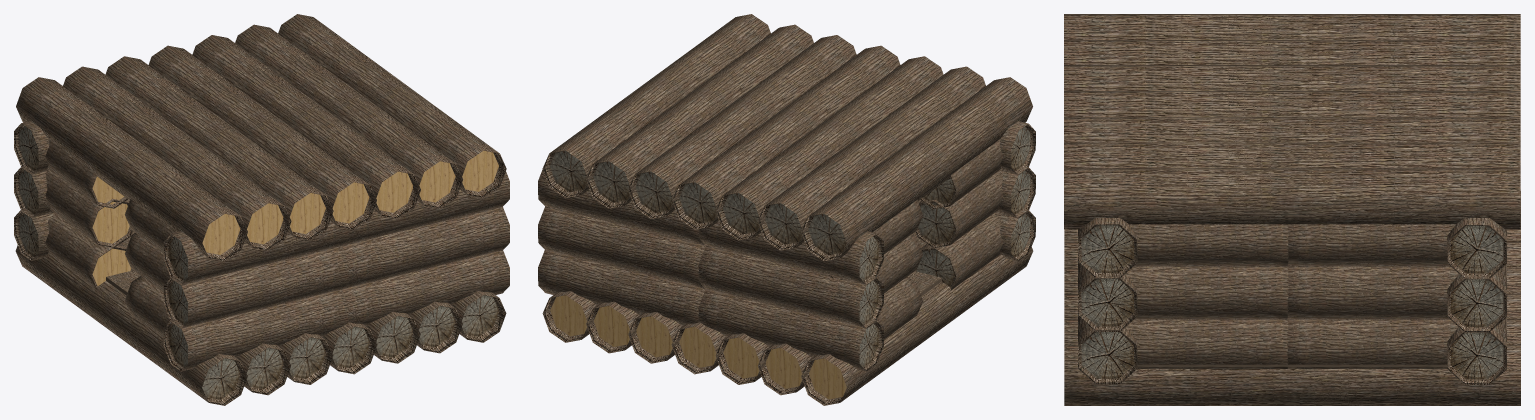
The model's file is LogCabin.fbx.
The picture shows the model from 3 angles, left to right: view 1: azimuth 30°, elevation 25°; view 2: azimuth 150°, elevation 25°; view 3: azimuth 270°, elevation 25°; orthographic projection. The views are drawn at different scales.
Parts seen in each view (by area): view 1: Cylinder.015, Cylinder.002, Cylinder.014, Cylinder.010, Cylinder.006, Cylinder.003, Cube.001; view 2: Cylinder.015, Cylinder.003, Cylinder.014, Cylinder.006, Cylinder.002, Cylinder.010, Cube.001; view 3: Cylinder.015, Cylinder.001, Cylinder.014, Cylinder.003, Cylinder.002, Cube.001.
Part boxes in pixels (x1,y1,x2,y2): Cylinder.015: (16,14,506,261); Cylinder.002: (163,171,509,371); Cylinder.014: (15,245,506,405); Cylinder.010: (45,139,133,289); Cylinder.006: (125,199,175,338); Cylinder.003: (14,121,129,260); Cube.001: (106,231,140,295); Cylinder.015: (542,14,1032,261); Cylinder.003: (538,169,883,371); Cylinder.014: (542,247,1033,405); Cylinder.006: (914,139,1003,290); Cylinder.002: (918,121,1035,261); Cylinder.010: (820,199,922,339); Cube.001: (907,232,941,296); Cylinder.015: (1064,14,1520,229); Cylinder.001: (1126,224,1458,368); Cylinder.014: (1064,191,1520,405); Cylinder.003: (1447,217,1506,384); Cylinder.002: (1078,217,1137,384); Cube.001: (1137,364,1447,366).
Size of the model in its own units: 1412 by 804 by 1413.
